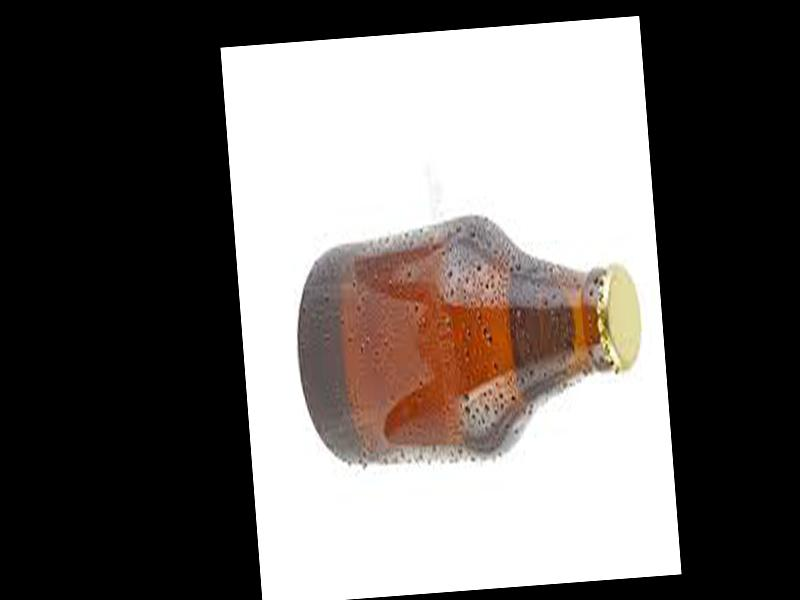Beer: (291, 221, 649, 467)
